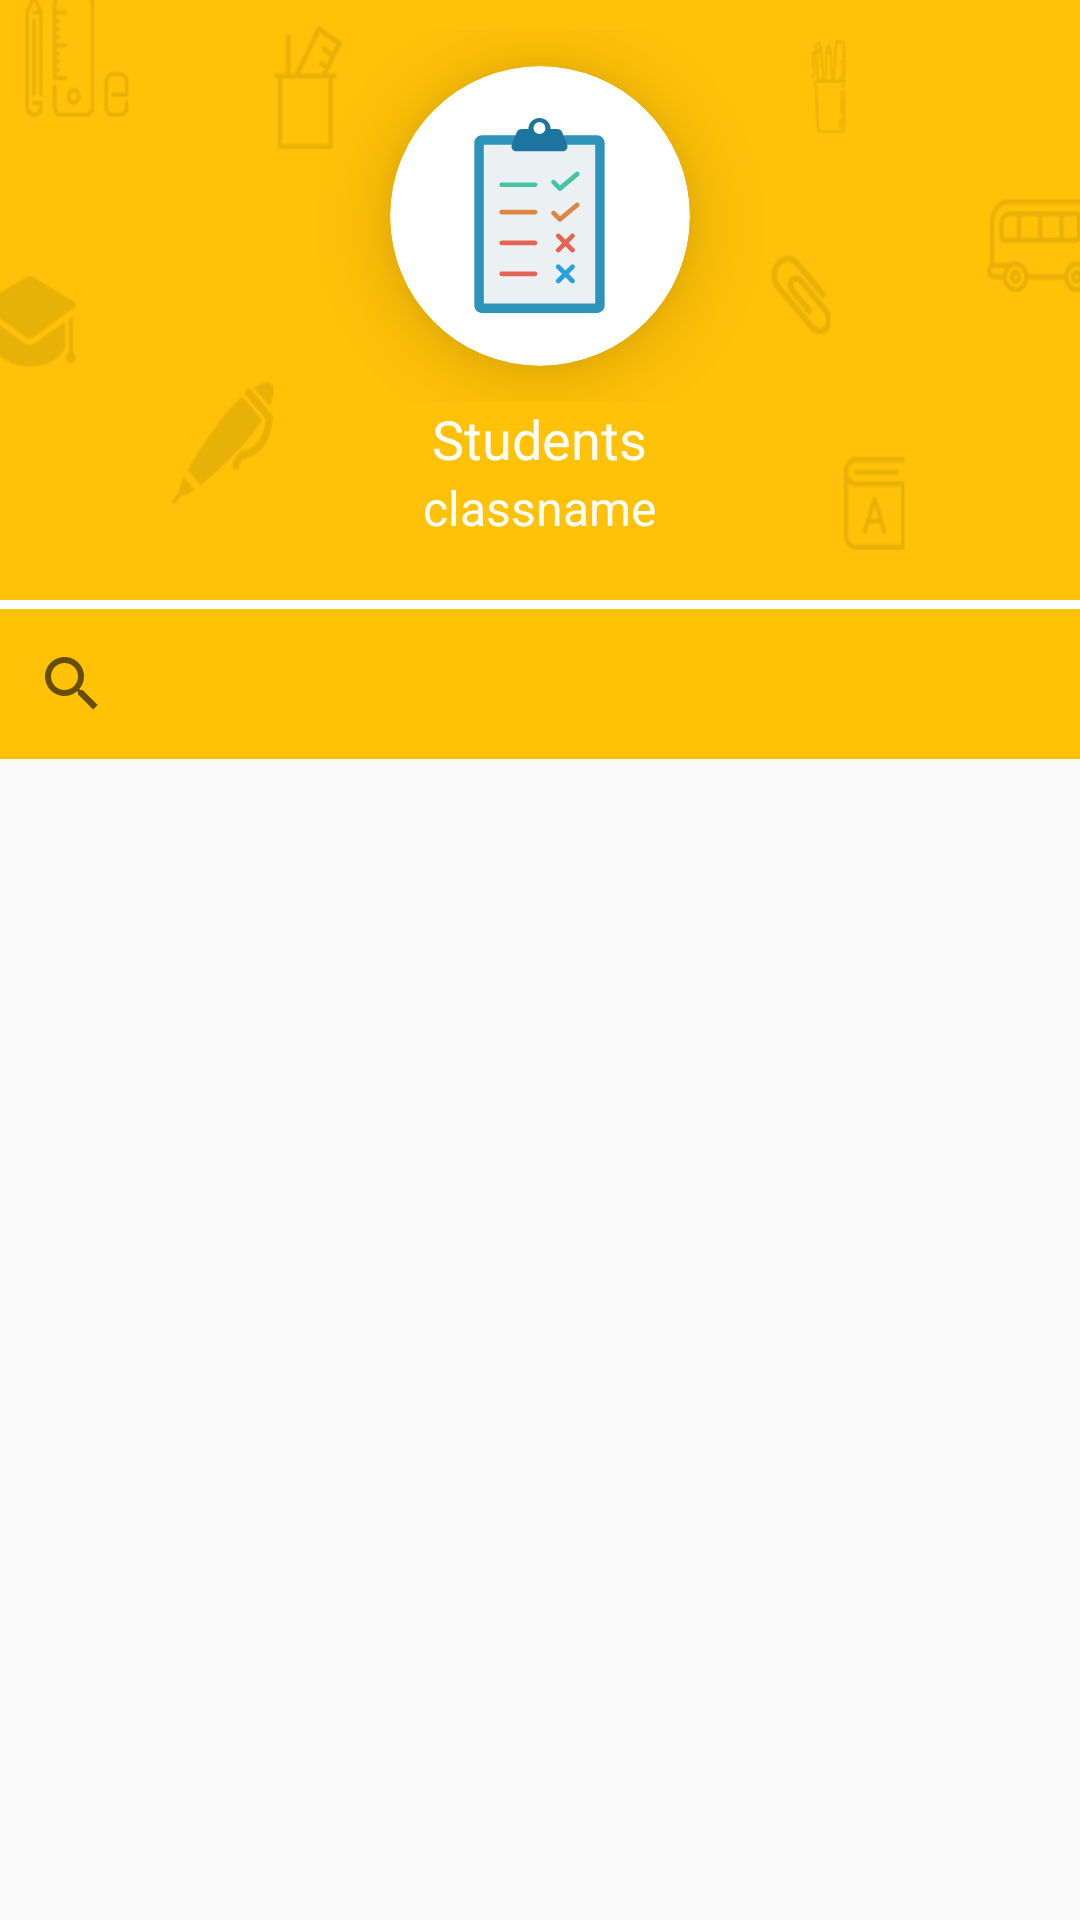

Icon bounding boxes for this 1080*1920 phone screenshot, format (x1, y1, x2, y2):
checklist: (474, 118, 605, 313)
